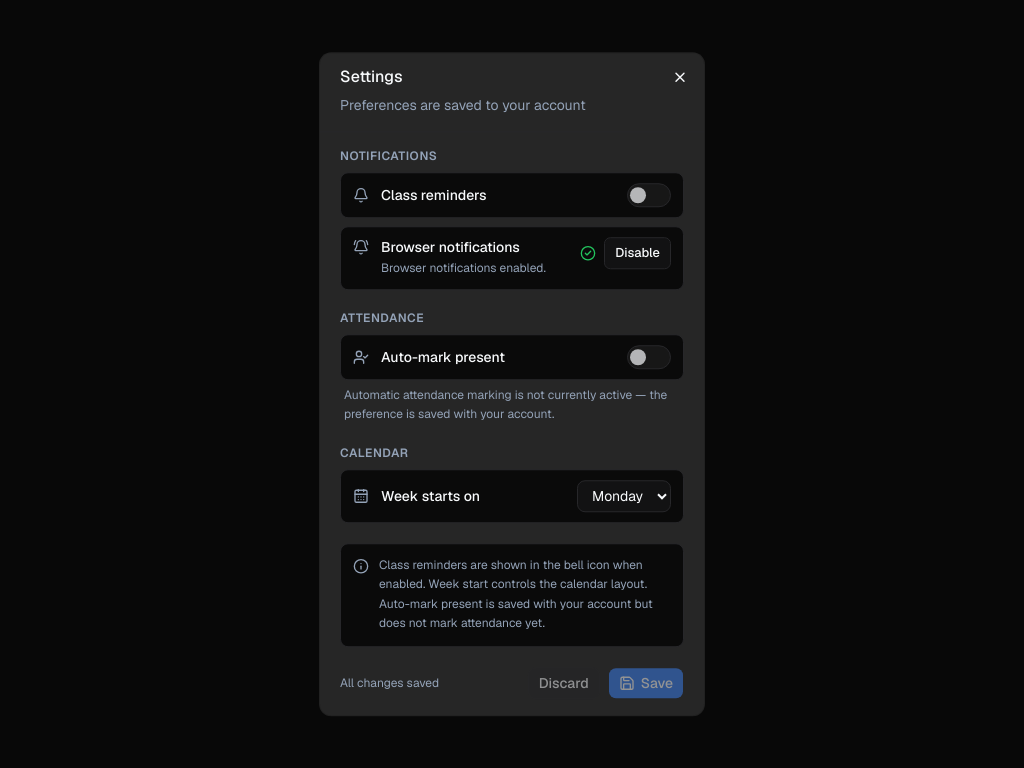
Test case: SettingsModal dirty state (UIA-002) › clears the dirty state when the edit is reverted to the persisted value
Click the switch named "class reminders": (649, 195) 627,183 -> 671,207
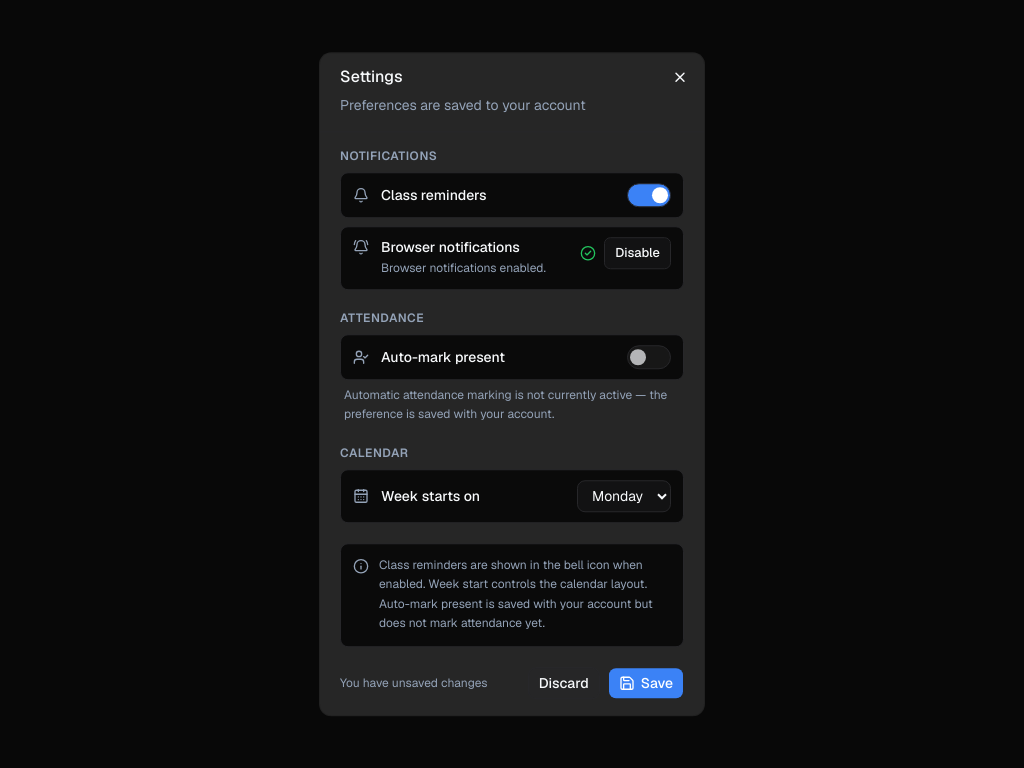
Now the text "You have unsaved changes" is shown, box 340,675 -> 488,691
Click the switch named "class reminders": (649, 195) 627,183 -> 671,207
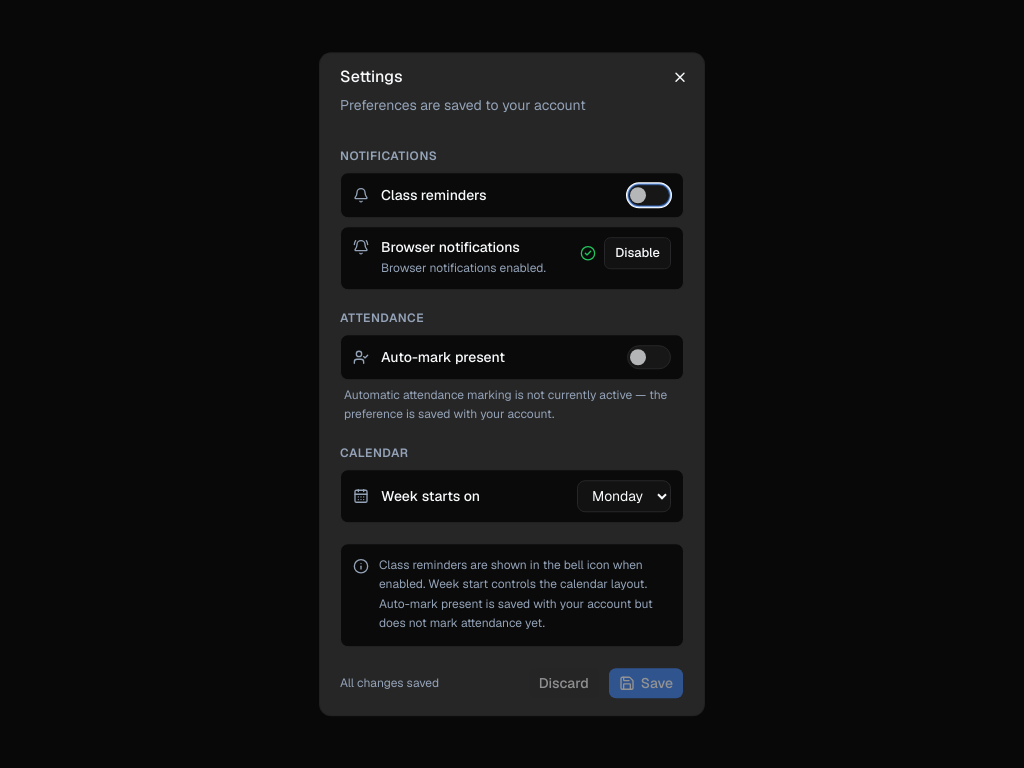
Now the text "All changes saved" is shown, box 340,675 -> 439,691
Now the button "Save" is disabled, box 608,667 -> 684,699
Now the button "Discard" is disabled, box 528,667 -> 600,699
